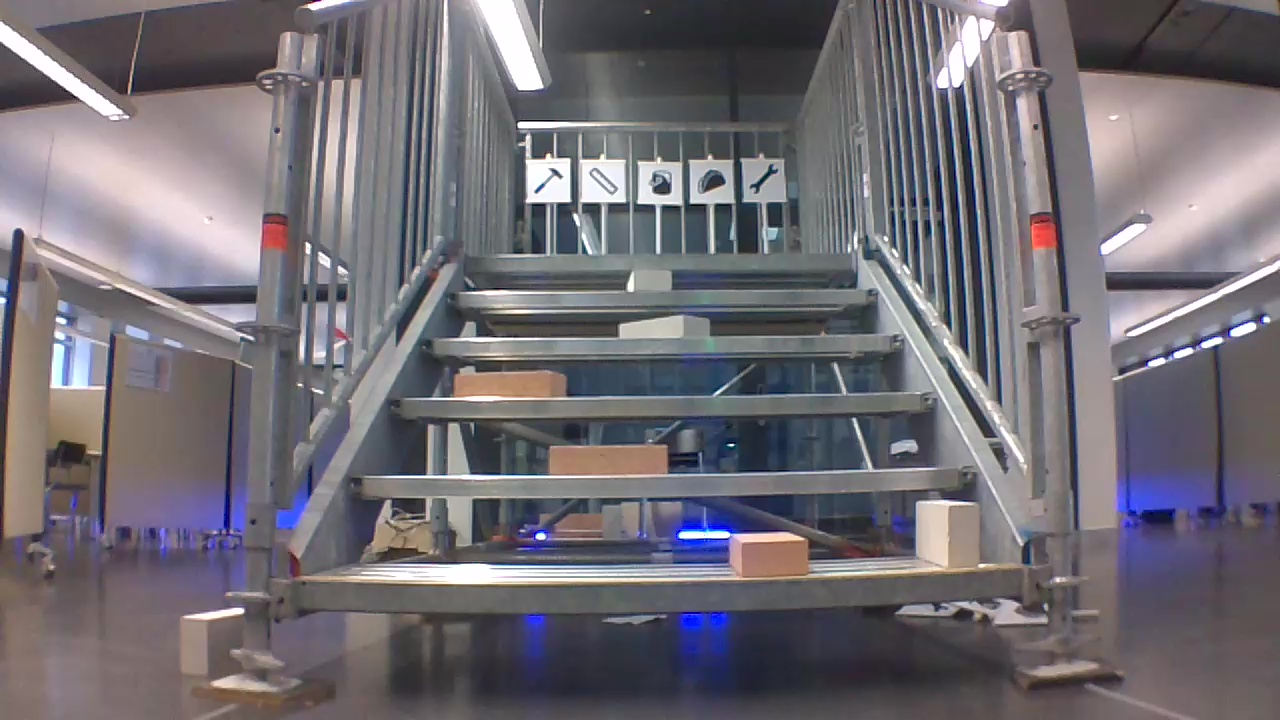brick: (178, 607, 252, 674), (915, 498, 984, 566), (454, 367, 569, 403), (727, 530, 809, 577), (546, 442, 671, 472), (615, 313, 713, 336), (623, 264, 675, 290)
bucket: (649, 169, 675, 194)
edge: (278, 560, 1028, 611), (354, 463, 974, 503), (383, 389, 938, 421), (451, 289, 876, 310), (429, 336, 907, 354), (466, 253, 856, 273)
hammer: (532, 165, 566, 195)
ruler: (590, 168, 617, 195)
stairs: (246, 0, 1076, 683)
steps: (270, 243, 1035, 614)
taco: (696, 166, 727, 193)
wrench: (748, 162, 781, 195)
